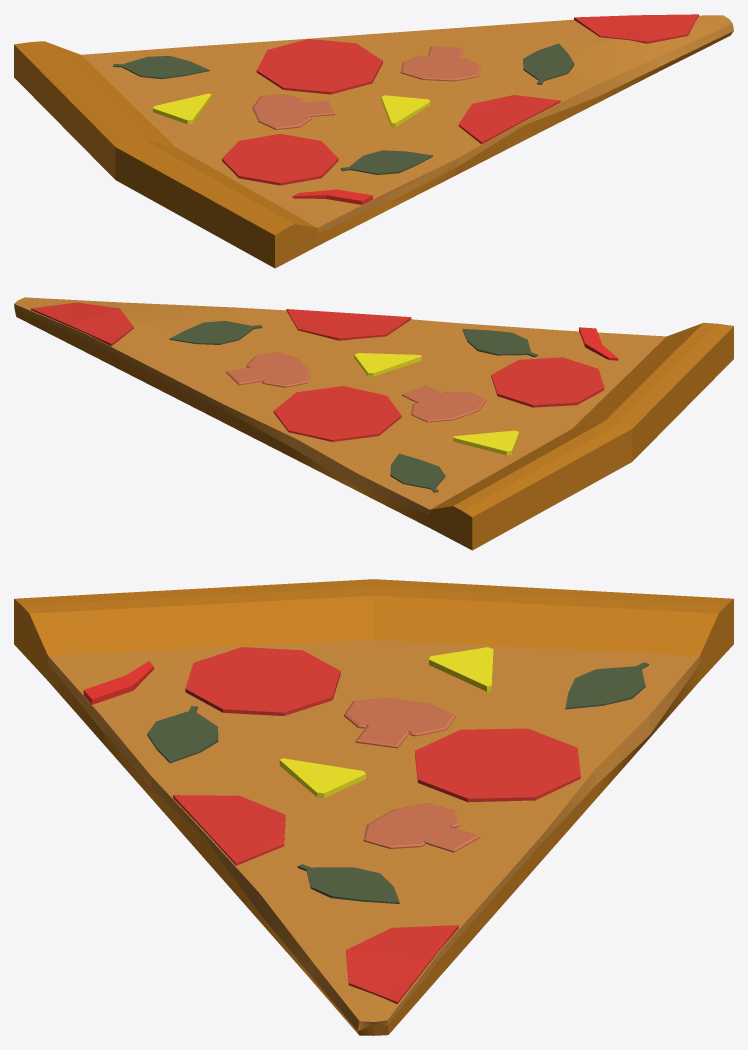
File: SM_Food_Pizza_02.fbx
3 renders of one model, top to bottom at view 1: azimuth 30°, elevation 25°; view 2: azimuth 150°, elevation 25°; view 3: azimuth 270°, elevation 25°, orthographic. The views are drawn at different scales.
Parts seen in each view (by area): view 1: SM_Food_Pizza_02; view 2: SM_Food_Pizza_02; view 3: SM_Food_Pizza_02.
Boxes of the visible parts, bbox=[...] form: SM_Food_Pizza_02: bbox=[14, 14, 733, 268]; SM_Food_Pizza_02: bbox=[14, 297, 733, 550]; SM_Food_Pizza_02: bbox=[14, 579, 733, 1035].
Bounding box in the file's own units: 0.1392 × 0.00756 × 0.1026.
